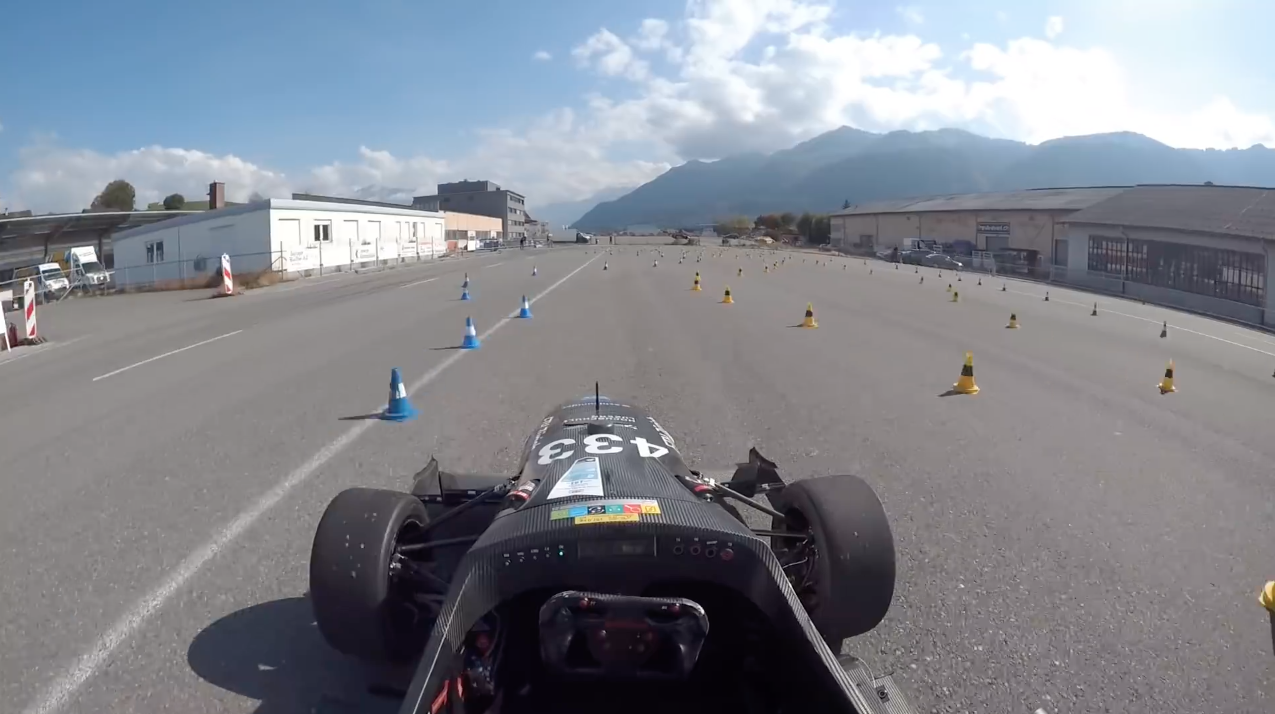lcone: (373, 366, 421, 425), (457, 313, 487, 353), (514, 293, 537, 323)
rcone: (948, 350, 983, 399), (797, 302, 822, 331)
